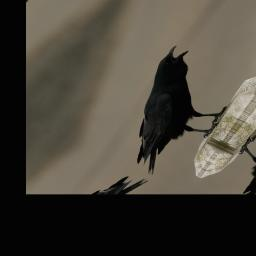Crow: (94, 44, 253, 185)
